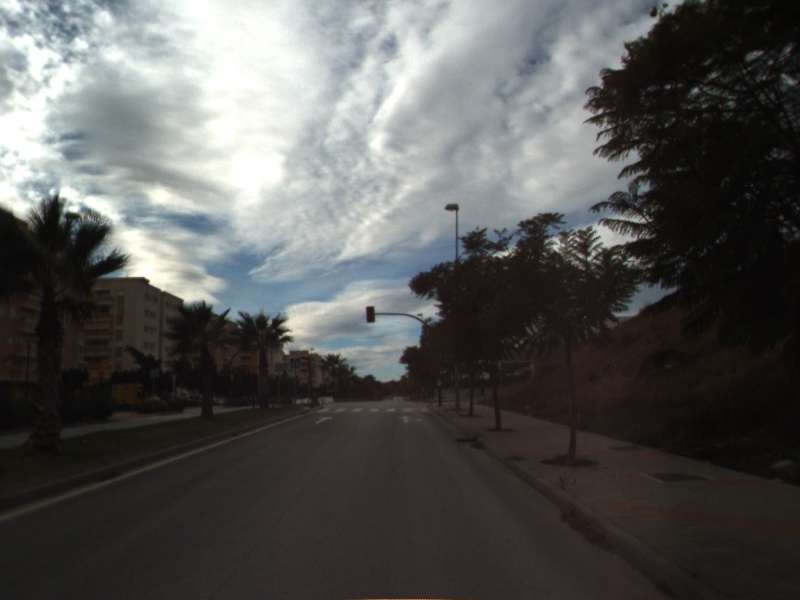STRAIGHT: (313, 414, 335, 426)
STRAIGHT_RIGHT: (396, 413, 426, 425)
